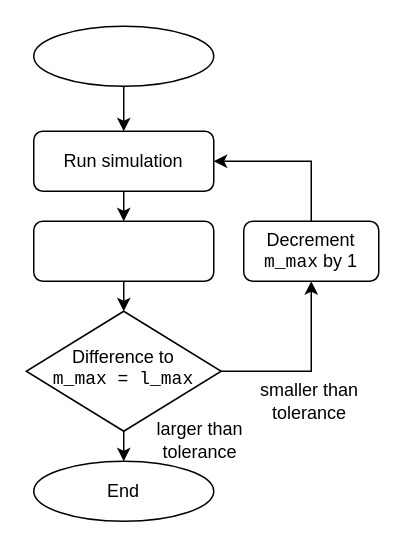
Some shapes in this 405 by 548 pixel diagram are drawn without their labels. The box of each missing label's shape, as (x1, y1, x2, y2) in pixels:
Evaluate detector quantity: (32, 220, 214, 281)
Start: (32, 25, 214, 86)
